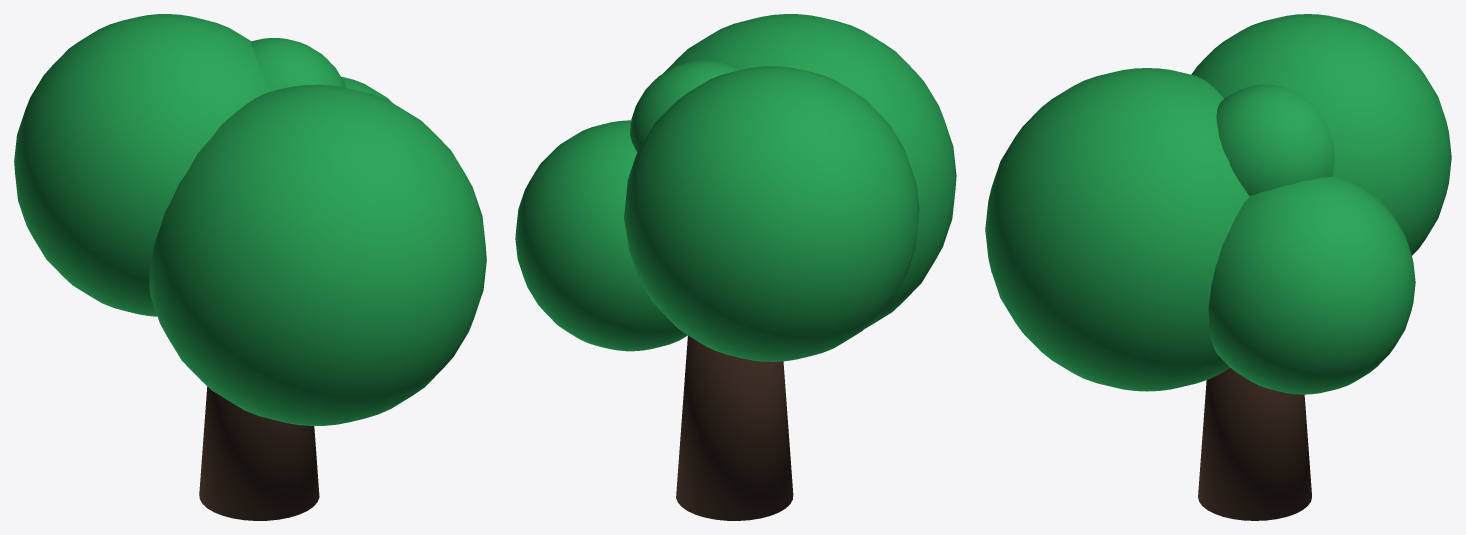
File: BallTree.fbx
3 renders of one model, left to right at view 1: azimuth 30°, elevation 25°; view 2: azimuth 150°, elevation 25°; view 3: azimuth 270°, elevation 25°, orthographic. The views are drawn at different scales.
Parts seen in each view (by area): view 1: BallTree; view 2: BallTree; view 3: BallTree.
Part boxes in pixels (x1=…): BallTree: x1=14, y1=14, x2=486, y2=520; BallTree: x1=515, y1=14, x2=956, y2=520; BallTree: x1=985, y1=14, x2=1451, y2=520.
Size of the model in its own units: 563 by 654 by 630.
